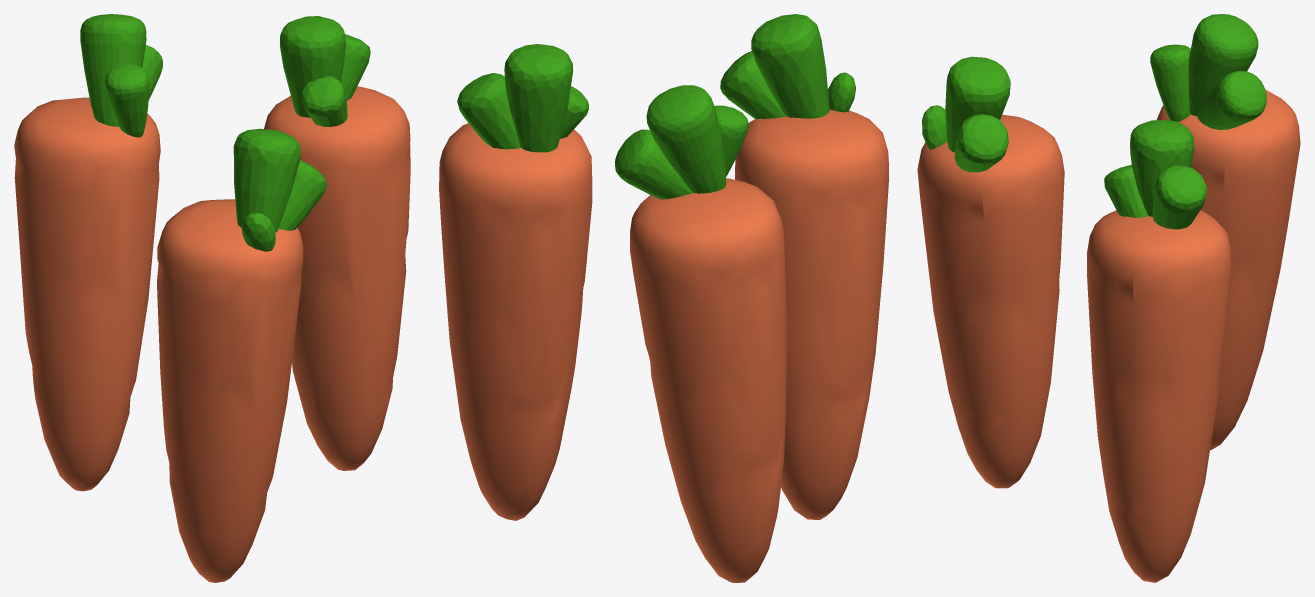
The model's file is Carrots.fbx.
The picture shows the model from 3 angles, left to right: view 1: azimuth 30°, elevation 25°; view 2: azimuth 150°, elevation 25°; view 3: azimuth 270°, elevation 25°; orthographic projection. The views are drawn at different scales.
Visible parts, largest first — view 1: Carrot.001, Carrot, Carrot.002; view 2: Carrot.001, Carrot.002, Carrot; view 3: Carrot.002, Carrot, Carrot.001.
Part boxes in pixels (box(x1,y1,x2,y2)): Carrot.001: box(14, 14, 162, 491); Carrot: box(157, 128, 326, 582); Carrot.002: box(264, 16, 410, 470); Carrot.001: box(615, 85, 786, 582); Carrot.002: box(439, 44, 592, 520); Carrot: box(720, 14, 888, 519); Carrot.002: box(1087, 120, 1231, 582); Carrot: box(917, 56, 1064, 488); Carrot.001: box(1150, 14, 1300, 450).
Size of the model in its own units: 15.34 by 20.56 by 15.11.
